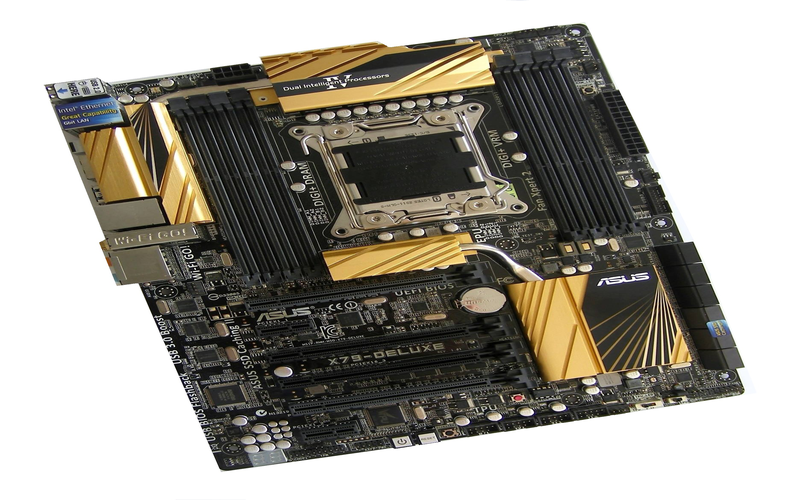Cirtuit-Board: (35, 15, 785, 475)
